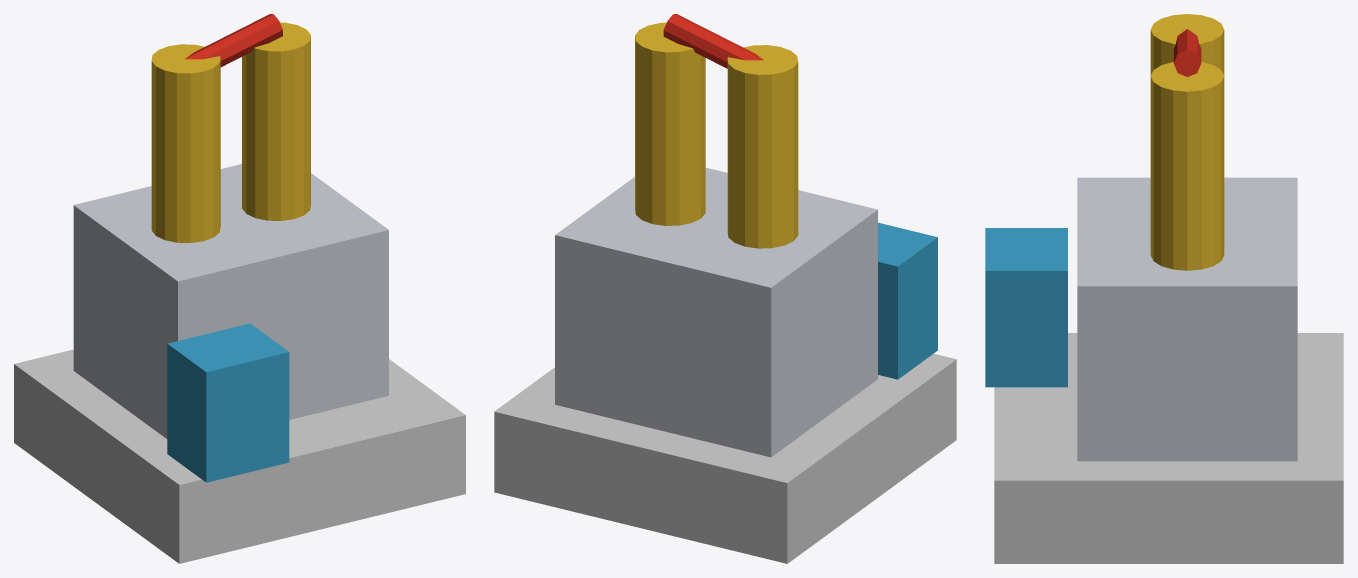
The model's file is capacitor_charger.obj.
3 views of the same model, side by side, from view 1: azimuth 30°, elevation 25°; view 2: azimuth 150°, elevation 25°; view 3: azimuth 270°, elevation 25° (orthographic). The views are drawn at different scales.
Visible parts, largest first — view 1: capacitor_charger; view 2: capacitor_charger; view 3: capacitor_charger.
Boxes of the visible parts, box(x1,y1,x2,y2) form: capacitor_charger: box(14, 14, 465, 563); capacitor_charger: box(494, 14, 956, 563); capacitor_charger: box(985, 14, 1343, 563).
Size of the model in its own units: 0.76 by 1.11 by 0.78.
